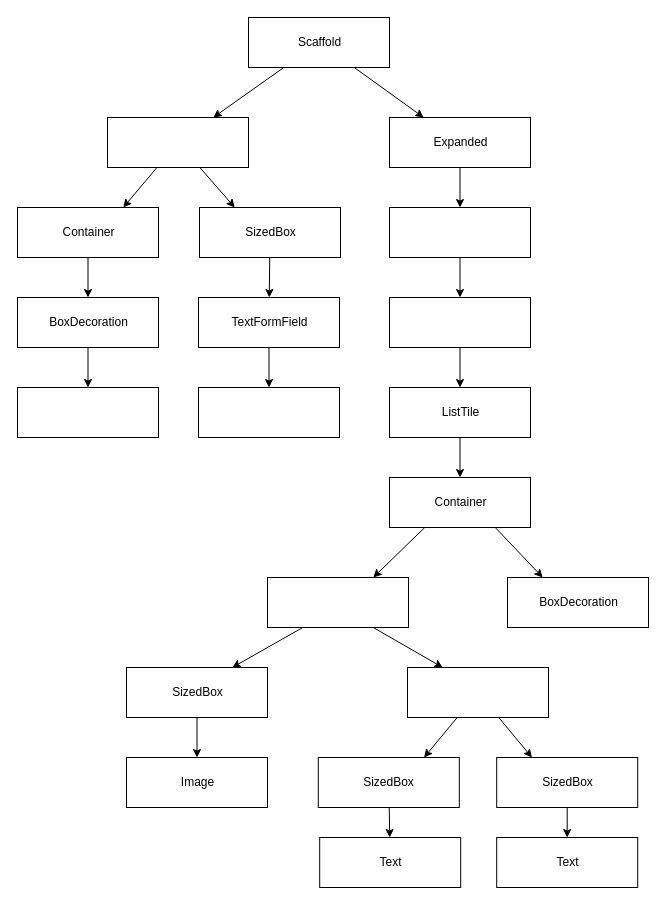
This 666x905 diagram has some shape labels left out. Each missing label, with the box of its shape:
AppBar: (106, 116, 248, 168)
Column: (406, 666, 548, 718)
FutureBuilder: (388, 296, 530, 348)
GridView: (388, 206, 530, 258)
InputDecoration: (198, 386, 340, 438)
LinearGradient: (16, 386, 158, 438)
Row: (266, 576, 408, 628)
